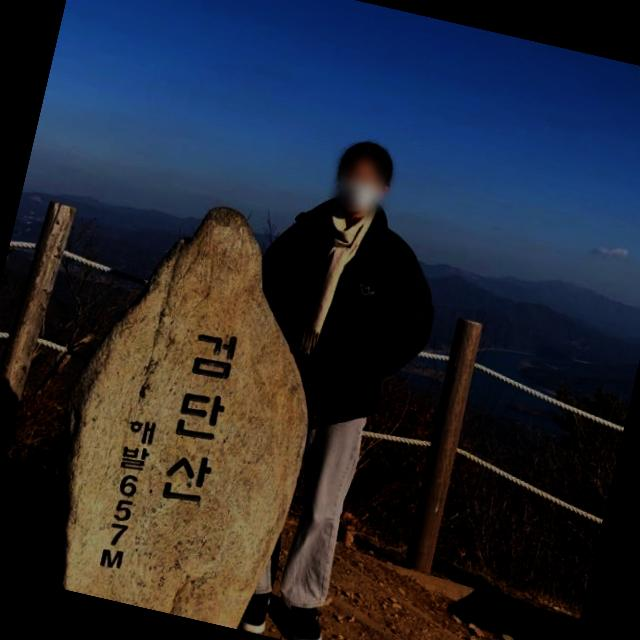cottonpants: (252, 399, 372, 617)
padding: (224, 183, 458, 444)
